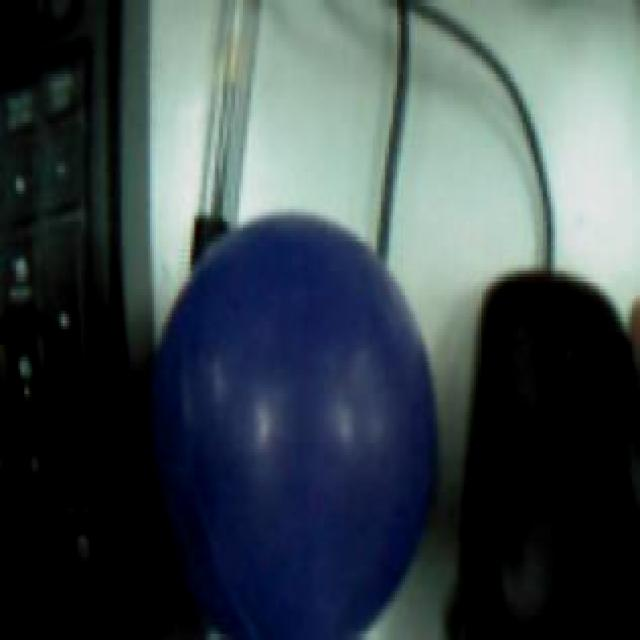BallPurple: (147, 215, 436, 640)
